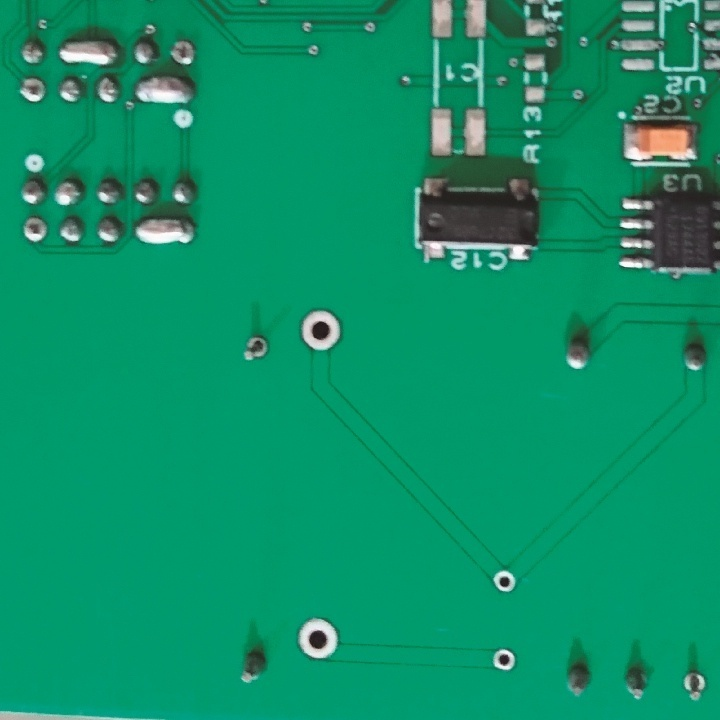F: (296, 615, 342, 663), (299, 307, 343, 354), (239, 332, 273, 367), (17, 72, 48, 107), (19, 215, 49, 246), (168, 40, 201, 68), (679, 669, 707, 701), (493, 645, 521, 675), (490, 567, 518, 596)
P: (132, 214, 196, 249), (136, 73, 198, 108), (56, 38, 121, 71)
